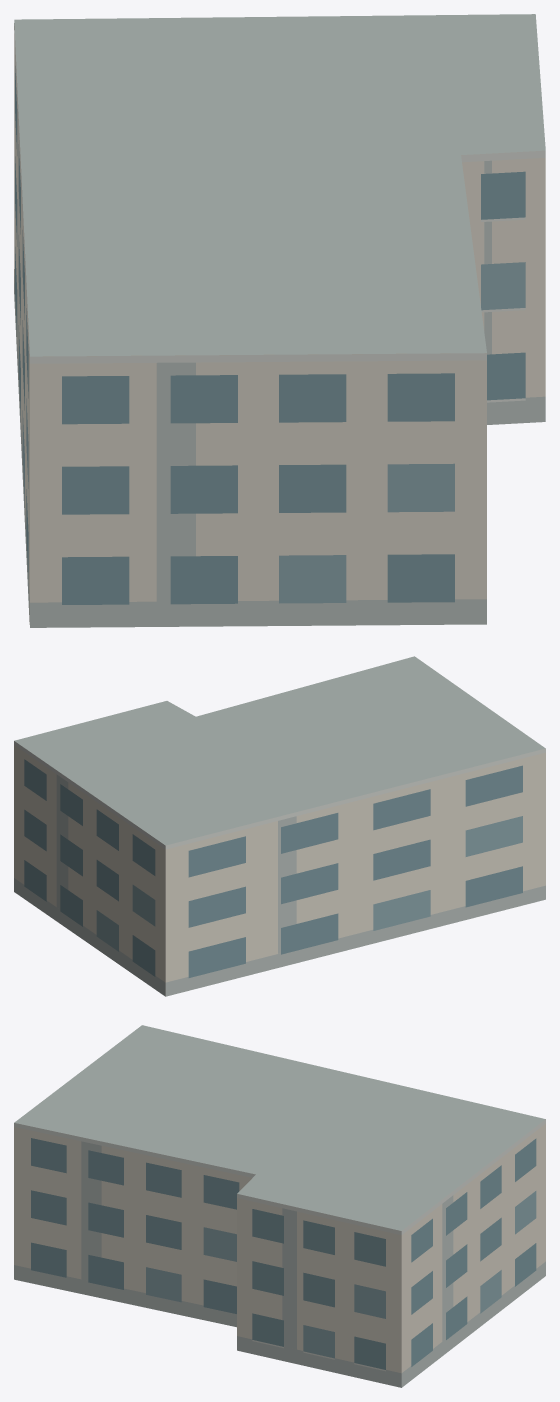
The model's file is survey-upis-33034493.glb.
The picture shows the model from 3 angles, top to bottom: view 1: azimuth 30°, elevation 25°; view 2: azimuth 150°, elevation 25°; view 3: azimuth 270°, elevation 25°; orthographic projection. The views are drawn at different scales.
Parts seen in each view (by area): view 1: survey-upis-33034493.tmp; view 2: survey-upis-33034493.tmp; view 3: survey-upis-33034493.tmp.
Boxes of the visible parts, x1,y1,x2,y2 form: survey-upis-33034493.tmp: (14, 14, 545, 627); survey-upis-33034493.tmp: (14, 656, 545, 996); survey-upis-33034493.tmp: (14, 1025, 545, 1387).
Bounding box in the file's own units: 25.79 × 9.15 × 28.13.
